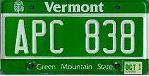placa de veiculo: (1, 2, 147, 75)
